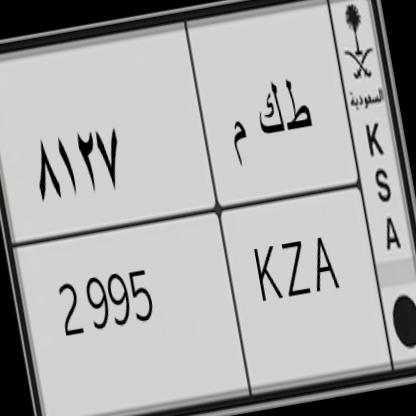english: (0, 160, 400, 416)
